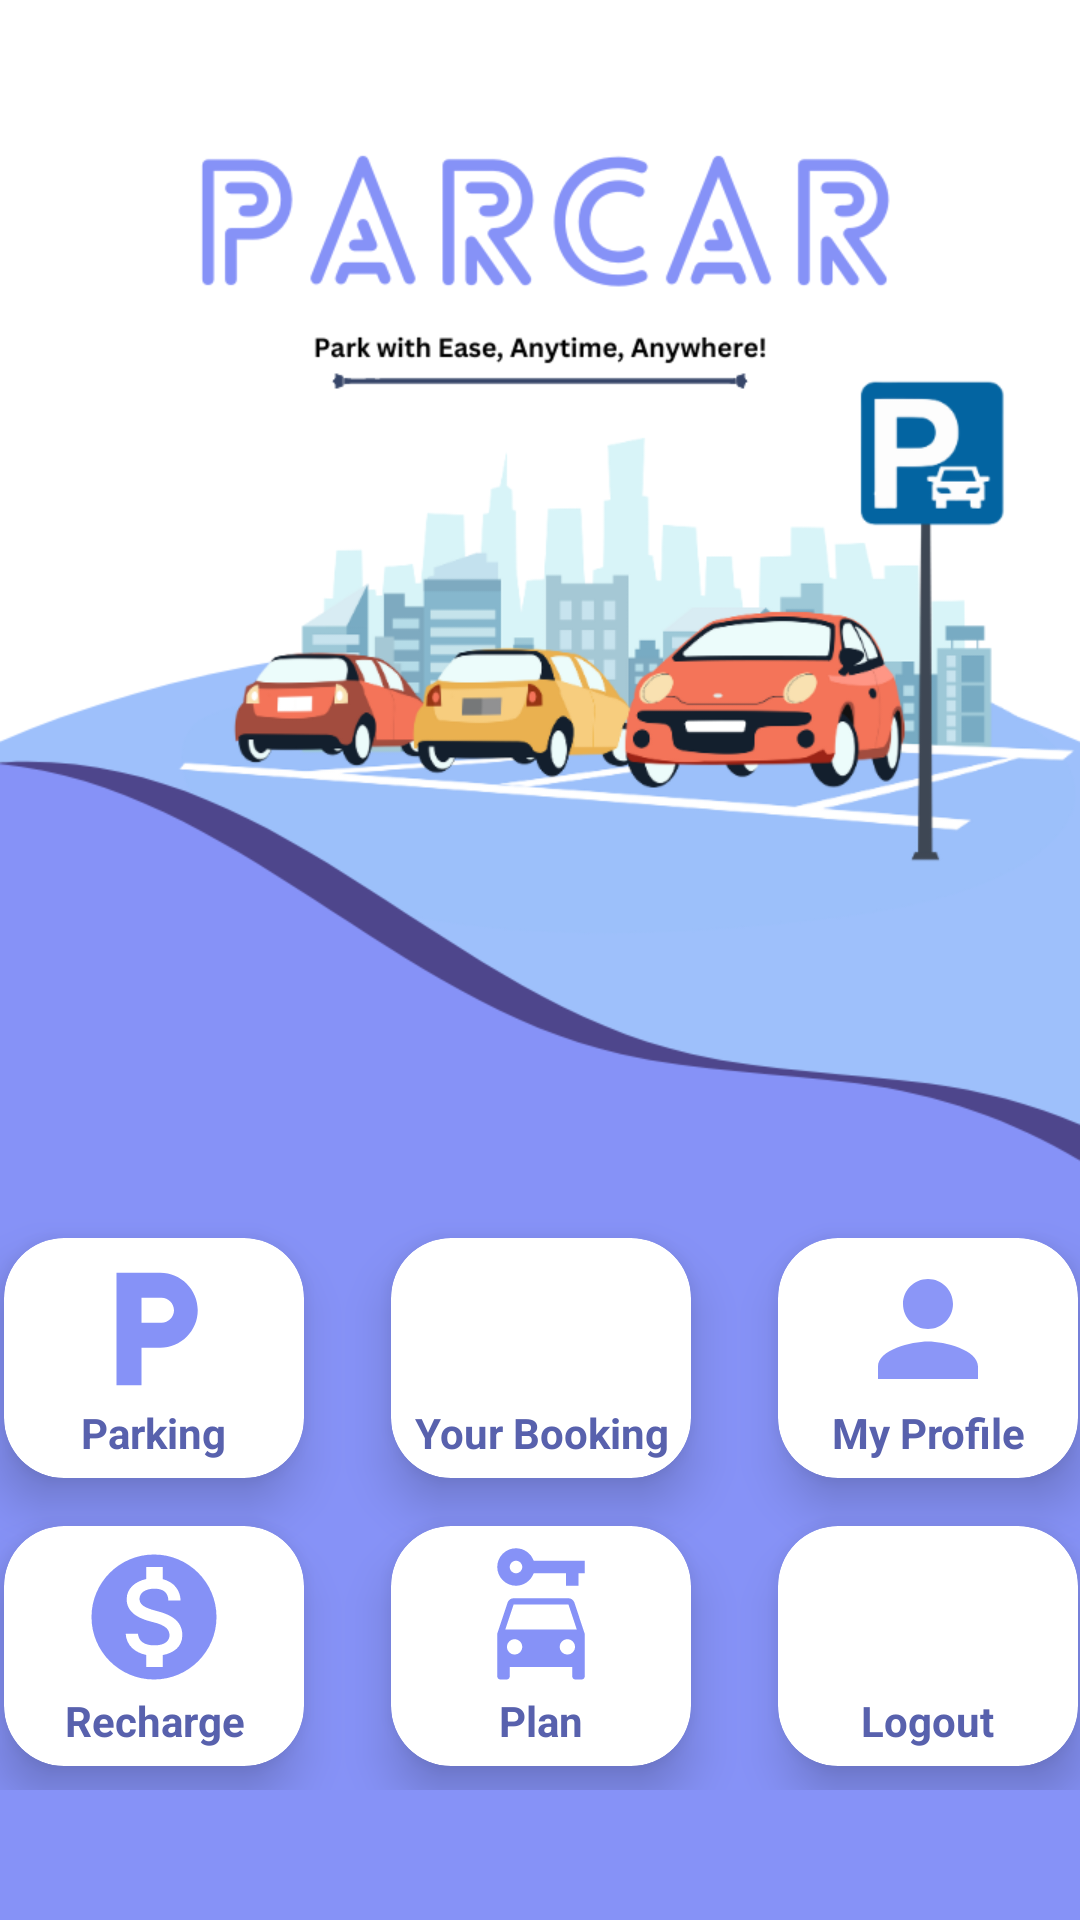

Where icons sit on this 1080 × 1920 app screen, as [left=x1, top=y1, right=x2, bottom=y2]:
person: [left=878, top=1279, right=978, bottom=1379]
subscription: [left=497, top=1548, right=585, bottom=1680]
